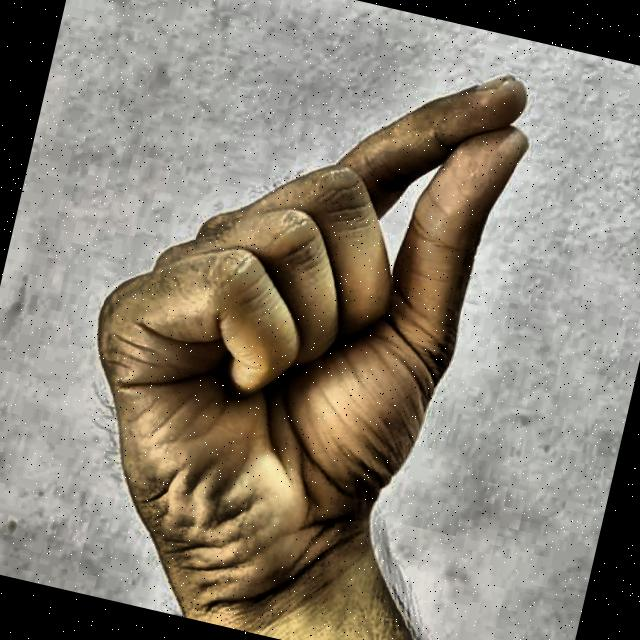Anusshar: (4, 0, 566, 640)
